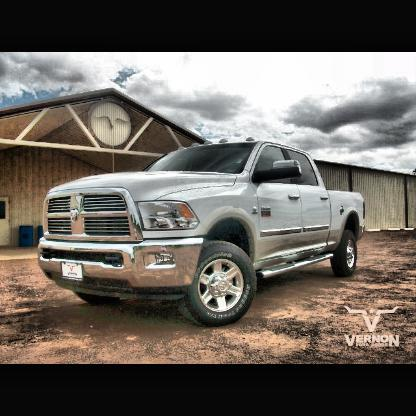Dodge Ram Pickup 3500 Crew Cab 2010: (36, 137, 367, 326)
